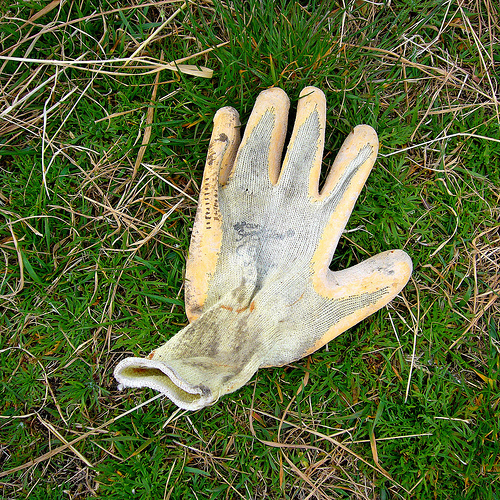litter: (109, 82, 412, 402)
